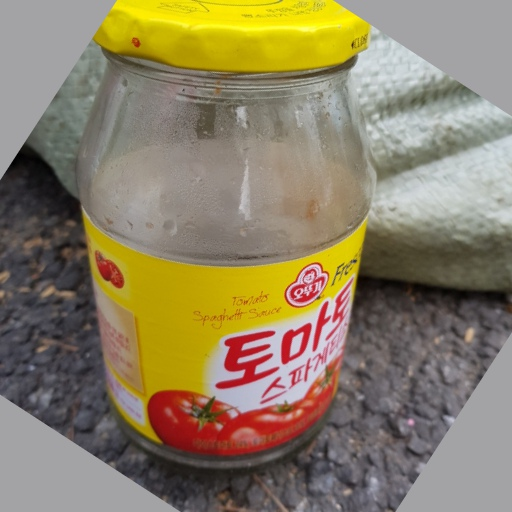Glass_5: (76, 1, 376, 466)
